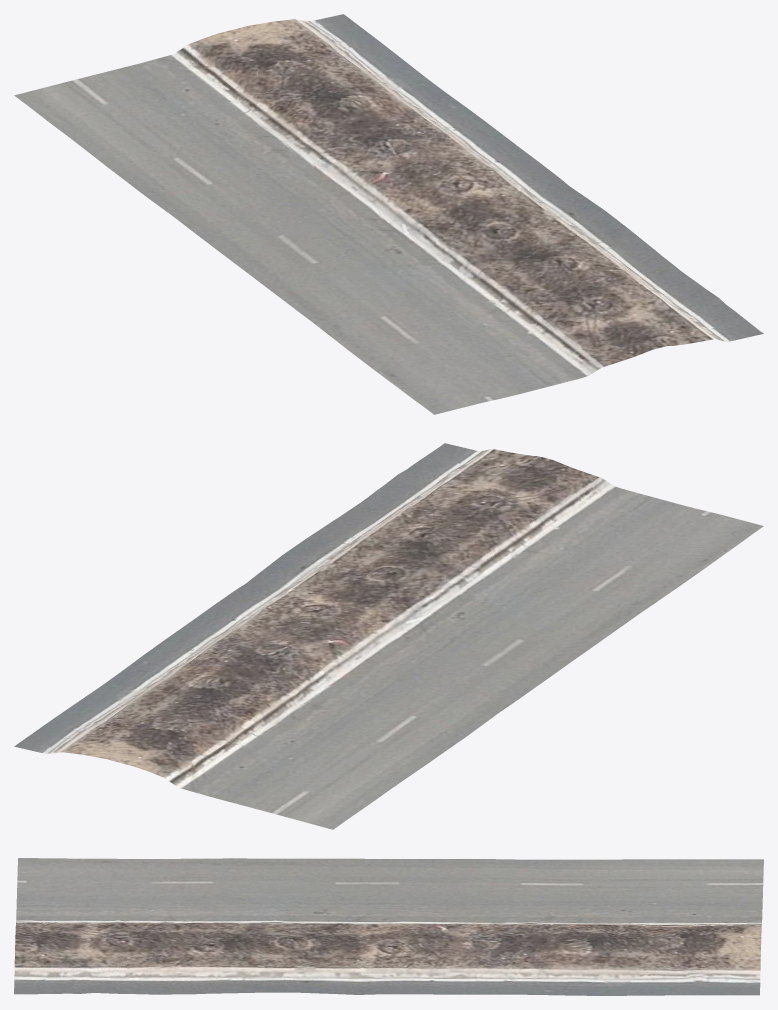
File: Tile_+004_+008_L21_0uuuu011.glb
The picture shows the model from 3 angles, top to bottom: view 1: azimuth 30°, elevation 25°; view 2: azimuth 150°, elevation 25°; view 3: azimuth 270°, elevation 25°; orthographic projection. The views are drawn at different scales.
Parts seen in each view (by area): view 1: rtc; view 2: rtc; view 3: rtc.
Boxes of the visible parts, <box> form: rtc: <box>14,14,763,414</box>; rtc: <box>14,443,763,829</box>; rtc: <box>14,858,763,995</box>.
Bounding box in the file's own units: 10.88 × 0.5727 × 24.19.
1 material, 1 textured.
